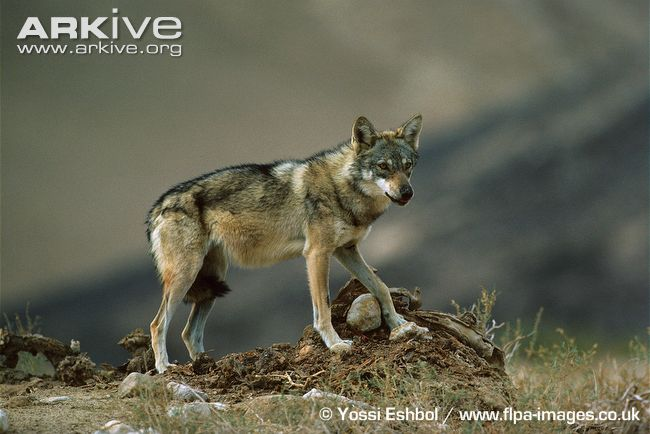wolf: (148, 112, 427, 367)
